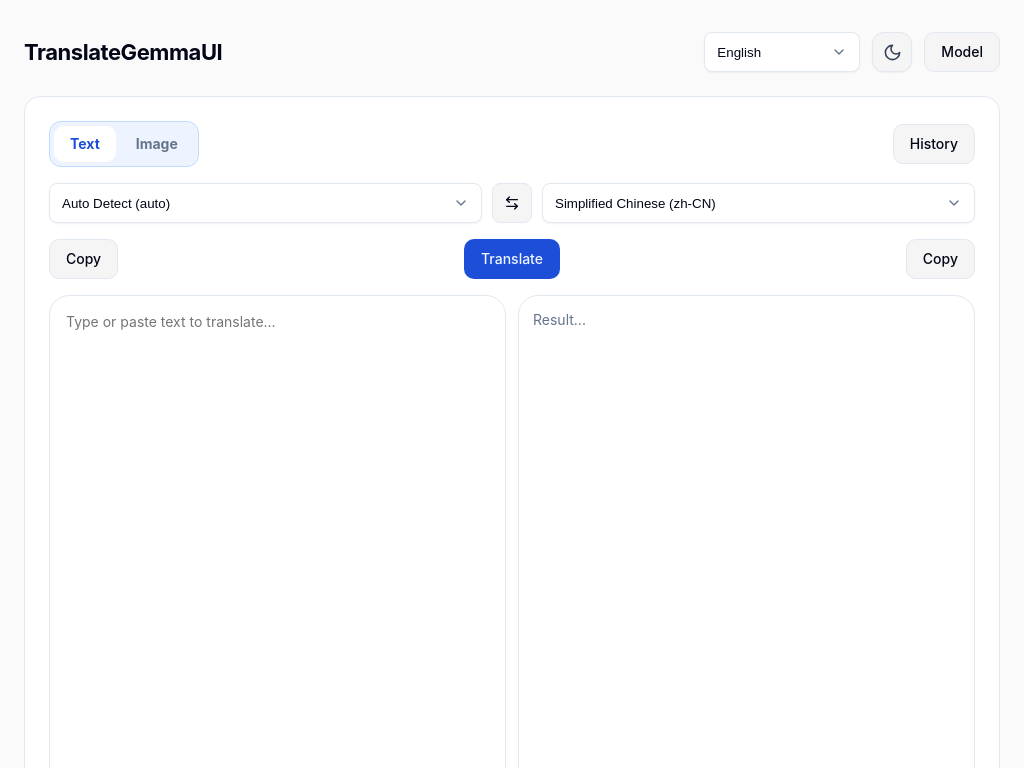
TranslateGemmaUI webui › keeps vision switching inline when the vision runtime is already installed
The width and height of the screenshot is (1024, 768).
Click the button "Image". click: (157, 144)
box: [120,126,194,162]
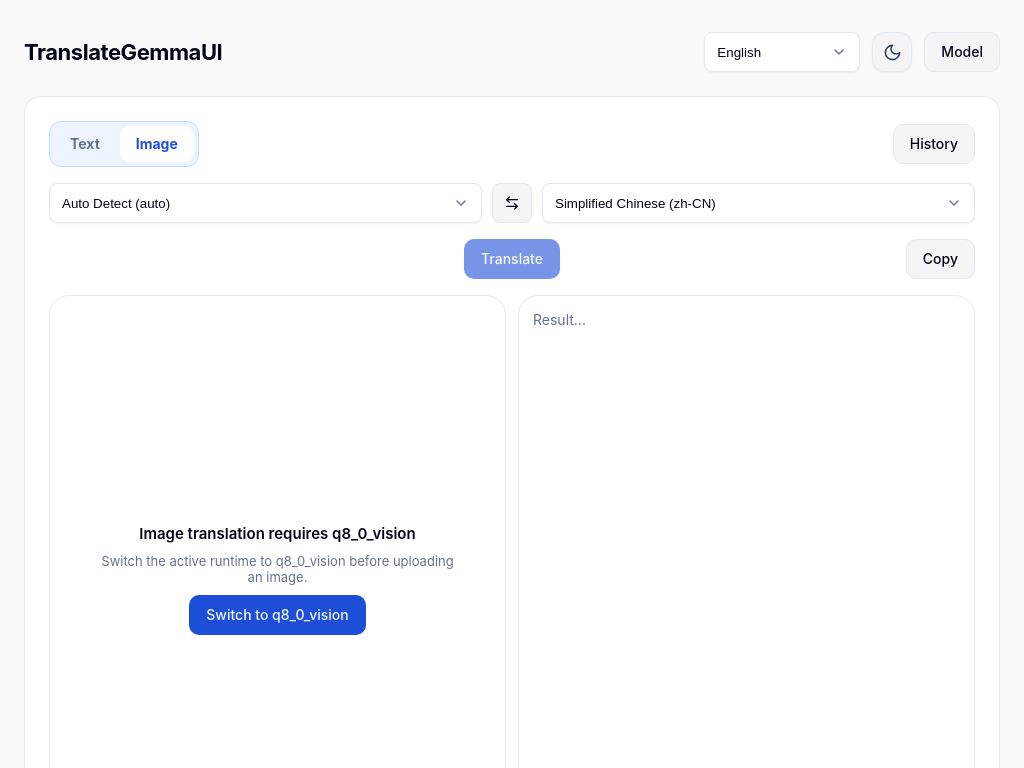
Click the button "Switch to q8_0_vision". click: (278, 615)
box: [189,595,366,635]
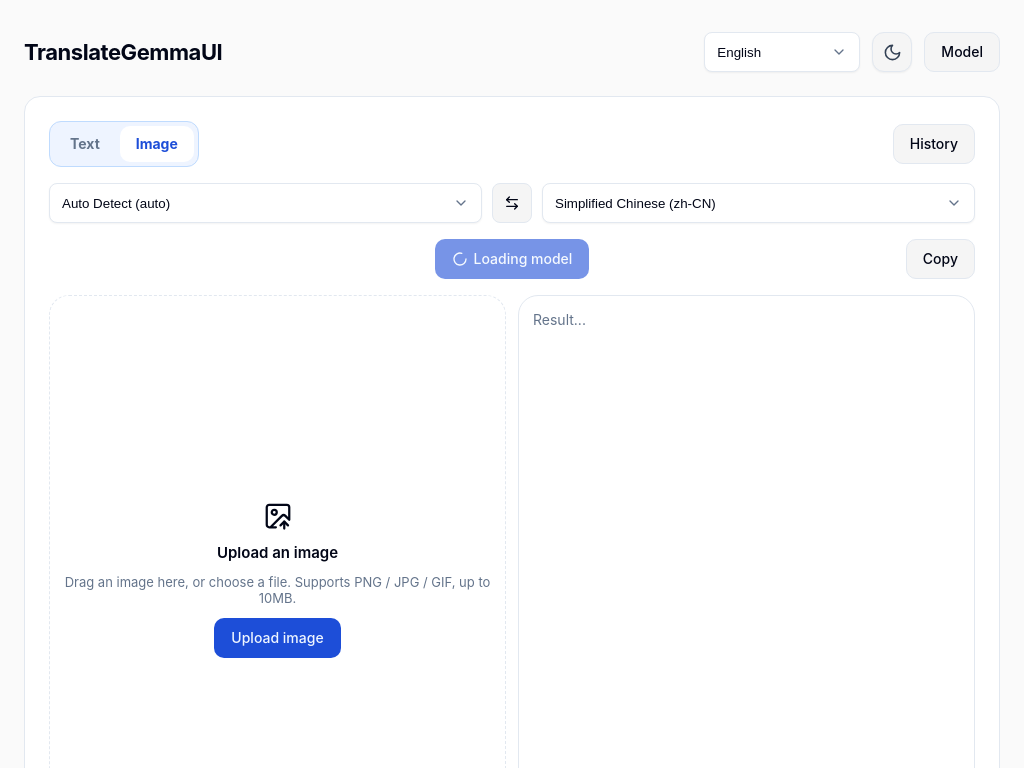
Check: the button "Loading model" is disabled, box [435,239,589,279]
Check: the button "Upload image" is shown, box [214,618,341,658]
